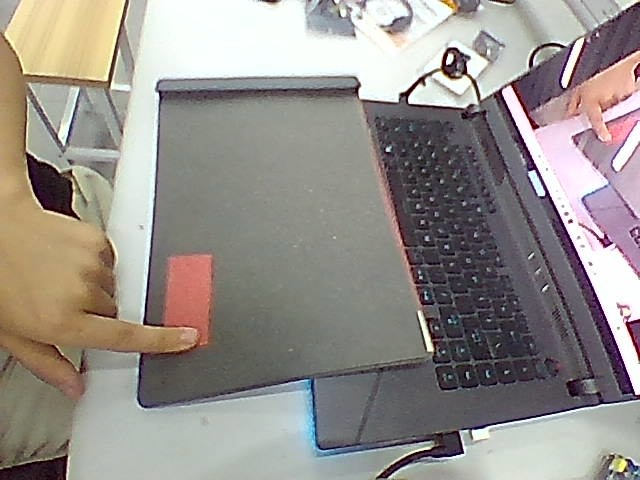card: (163, 254, 213, 347)
